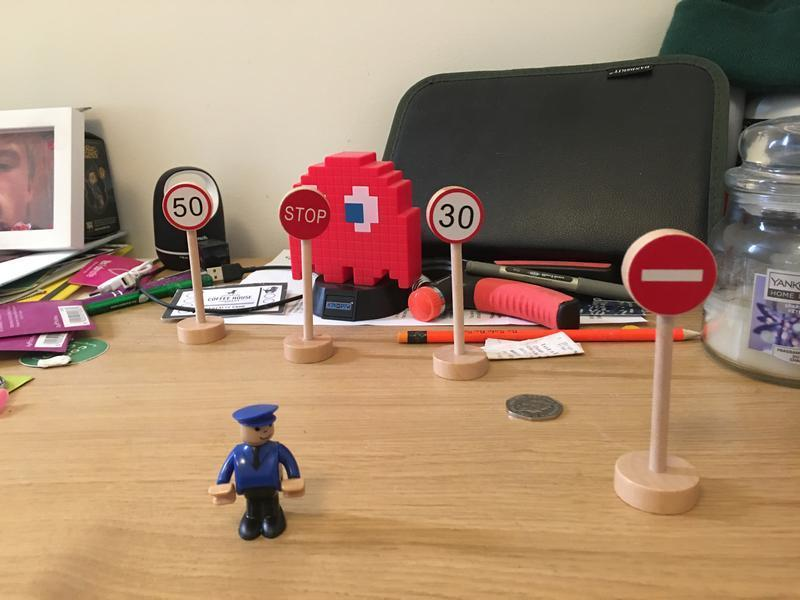Traffic_Sign_30: (428, 187, 483, 241)
Traffic_Sign_50: (162, 186, 212, 230)
Traffic_Sign_No_Entry: (627, 233, 716, 314)
Traffic_Sign_Stop: (280, 191, 329, 237)
person: (206, 398, 312, 540)
